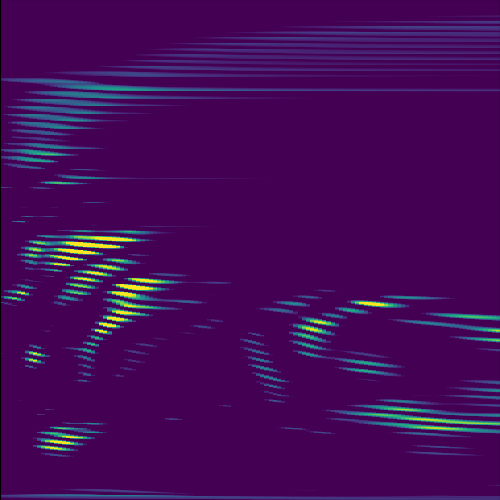semblance: (47, 232, 144, 268), (104, 276, 182, 310), (63, 256, 138, 291)
